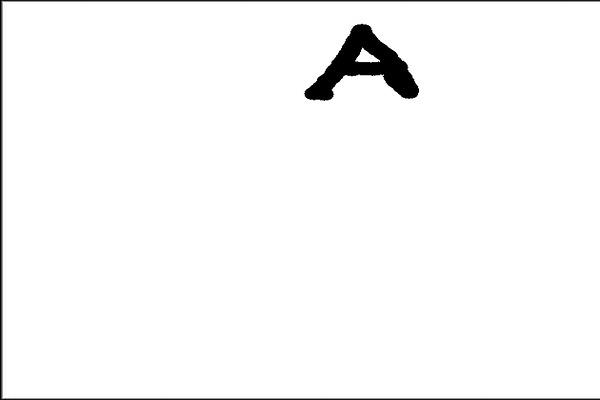A: (290, 17, 426, 104)
